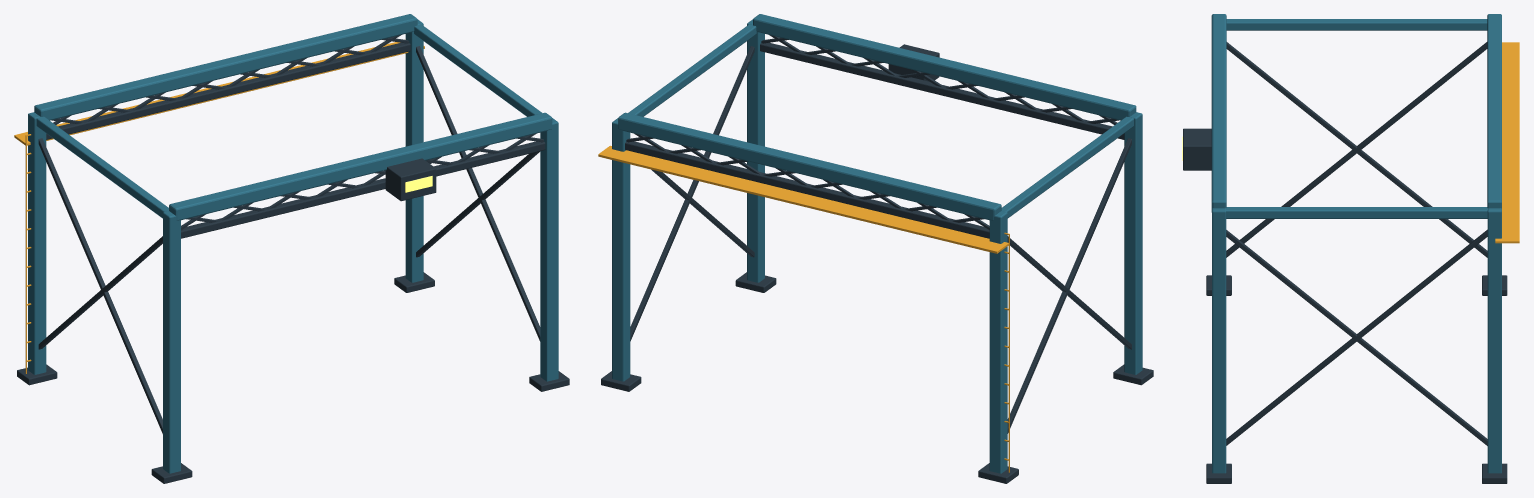
File: gantry-frame-medium.glb
3 views of the same model, side by side, from view 1: azimuth 30°, elevation 25°; view 2: azimuth 150°, elevation 25°; view 3: azimuth 270°, elevation 25° (orthographic). The views are drawn at different scales.
Parts seen in each view (by area): view 1: main_girder.001, main_girder, gantry_leg.002, gantry_leg, gantry_leg.001, lower_girder.001, gantry_leg.003, lower_girder, end_tie, end_cross_a, end_tie.001, end_cross_a.001 (+4 smaller); view 2: main_girder.001, main_girder, service_platform, gantry_leg.001, gantry_leg, gantry_leg.003, lower_girder.001, lower_girder, gantry_leg.002, end_tie, end_cross_b, end_tie.001 (+3 smaller); view 3: gantry_leg.002, gantry_leg.003, service_platform, end_tie, end_tie.001, main_girder, main_girder.001, end_cross_a.001, end_cross_b.001, end_cross_b, end_cross_a, operator_cabin (+2 smaller).
Boxes of the visible parts, x1=… form: main_girder.001: x1=34, y1=14, x2=417, y2=120; main_girder: x1=169, y1=112, x2=552, y2=220; gantry_leg.002: x1=540, y1=118, x2=558, y2=381; gantry_leg: x1=163, y1=211, x2=180, y2=473; gantry_leg.001: x1=28, y1=112, x2=46, y2=374; lower_girder.001: x1=46, y1=42, x2=410, y2=139; gantry_leg.003: x1=405, y1=19, x2=423, y2=282; lower_girder: x1=181, y1=141, x2=545, y2=238; end_tie: x1=36, y1=116, x2=168, y2=218; end_cross_a: x1=38, y1=138, x2=162, y2=433; end_tie.001: x1=414, y1=24, x2=542, y2=116; end_cross_a.001: x1=416, y1=46, x2=540, y2=341; main_girder.001: x1=618, y1=112, x2=1001, y2=220; main_girder: x1=753, y1=14, x2=1136, y2=120; service_platform: x1=598, y1=145, x2=1008, y2=253; gantry_leg.001: x1=989, y1=211, x2=1007, y2=473; gantry_leg: x1=1124, y1=112, x2=1142, y2=374; gantry_leg.003: x1=612, y1=118, x2=630, y2=381; lower_girder.001: x1=625, y1=141, x2=989, y2=238; lower_girder: x1=760, y1=42, x2=1124, y2=139; gantry_leg.002: x1=747, y1=19, x2=764, y2=282; end_tie: x1=1001, y1=116, x2=1133, y2=218; end_cross_b: x1=1007, y1=138, x2=1131, y2=433; end_tie.001: x1=628, y1=24, x2=756, y2=116; gantry_leg.002: x1=1212, y1=208, x2=1226, y2=473; gantry_leg.003: x1=1487, y1=208, x2=1501, y2=473; service_platform: x1=1495, y1=42, x2=1519, y2=243; end_tie: x1=1226, y1=19, x2=1487, y2=30; end_tie.001: x1=1226, y1=207, x2=1487, y2=218; main_girder: x1=1211, y1=14, x2=1226, y2=212; main_girder.001: x1=1487, y1=14, x2=1501, y2=208; end_cross_a.001: x1=1226, y1=229, x2=1487, y2=445; end_cross_b.001: x1=1226, y1=230, x2=1487, y2=445; end_cross_b: x1=1226, y1=42, x2=1487, y2=257; end_cross_a: x1=1226, y1=42, x2=1487, y2=257; operator_cabin: x1=1183, y1=128, x2=1211, y2=170.
Bounding box in the file's own units: 45.2 × 28.7 × 31.82.
